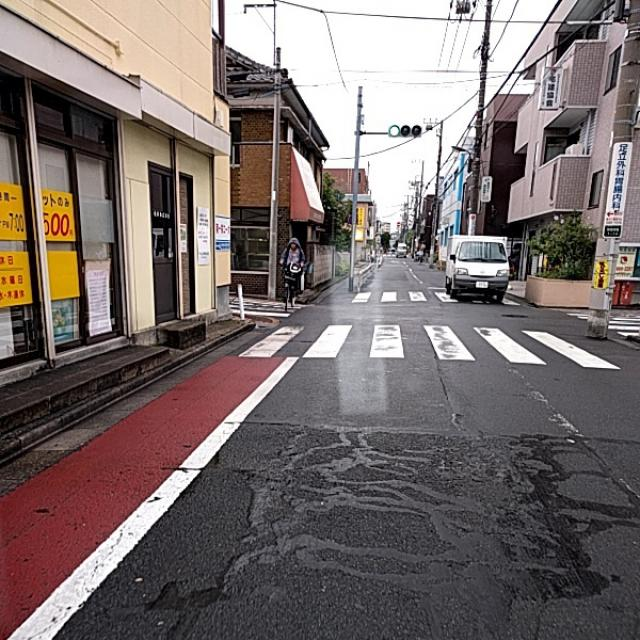pothole: (256, 419, 639, 596)
